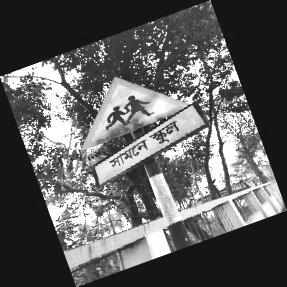School-in-front: (81, 76, 208, 189)
